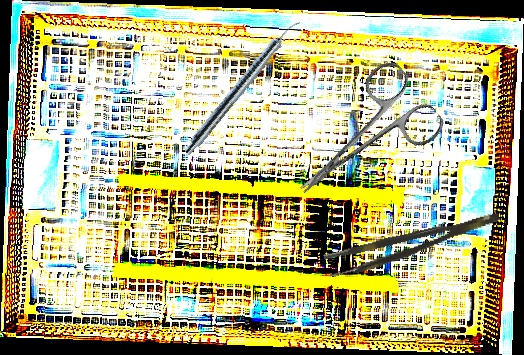Handpiece: (181, 14, 304, 160)
Iris Scissors: (270, 54, 450, 225)
Tissue Forceps: (322, 210, 505, 280)
